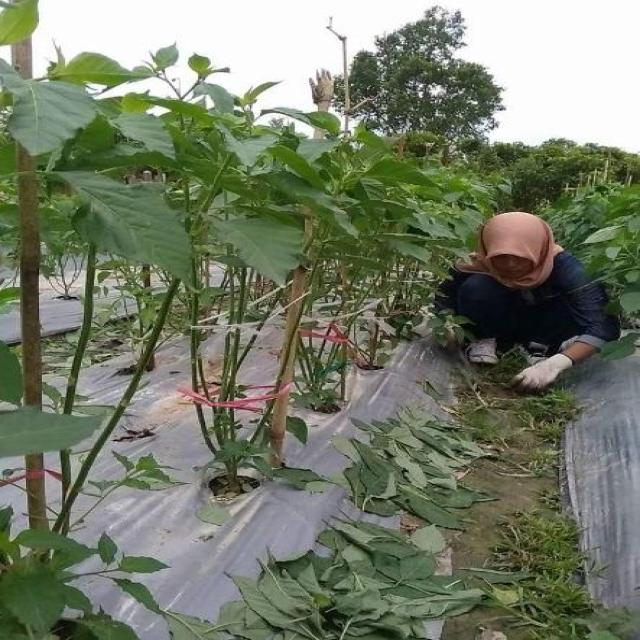row: (261, 351, 594, 639)
